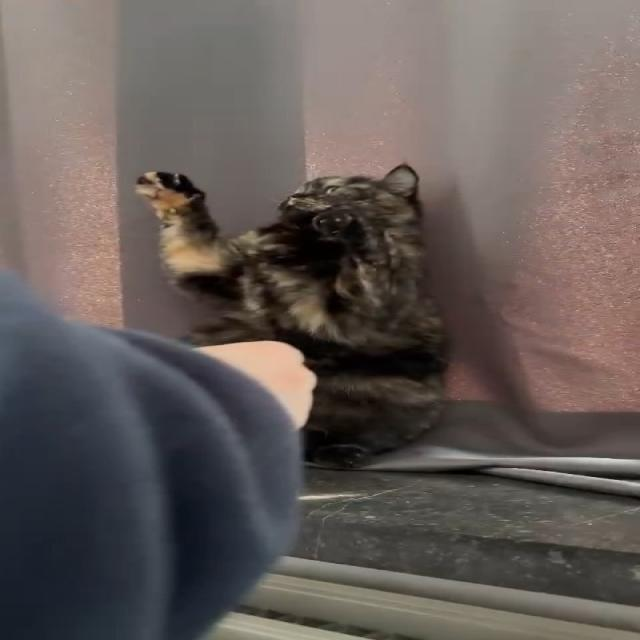authorized: (132, 162, 451, 469)
